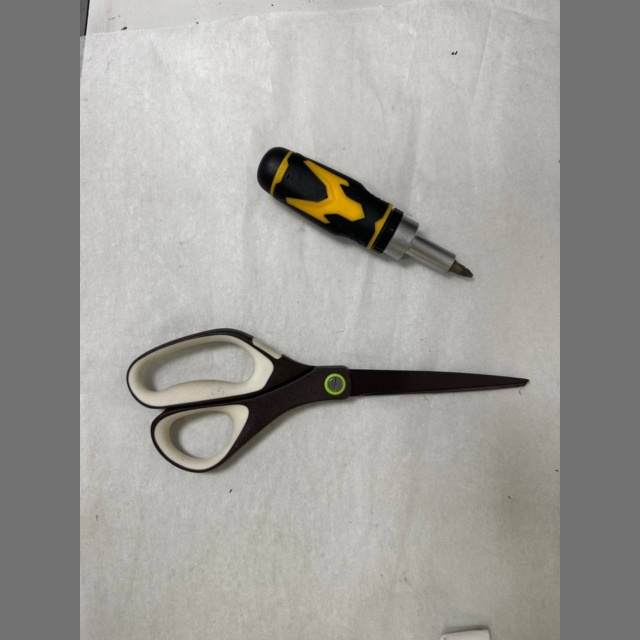scissor: (127, 328, 528, 472)
screwdriver: (257, 147, 473, 278)
